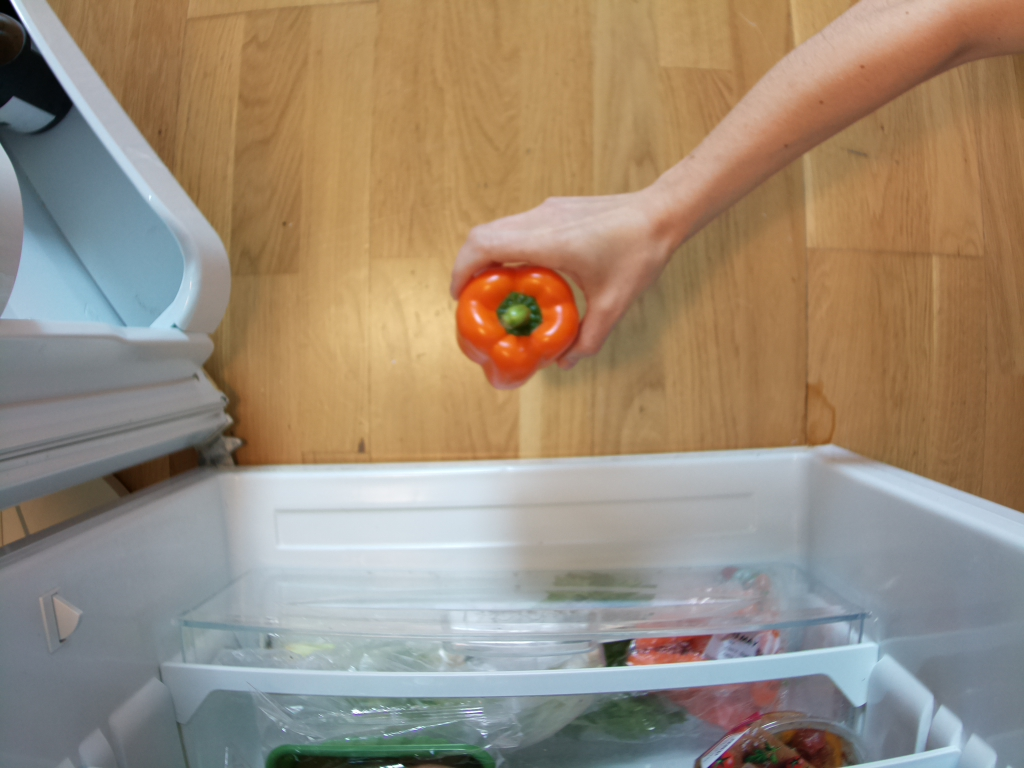pepper: (454, 260, 581, 390)
